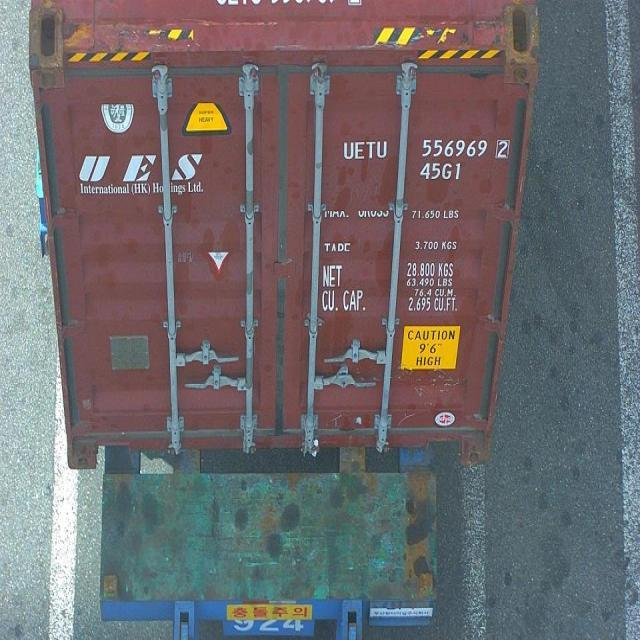ISO: (421, 162, 463, 182)
container_number: (342, 136, 512, 163)
